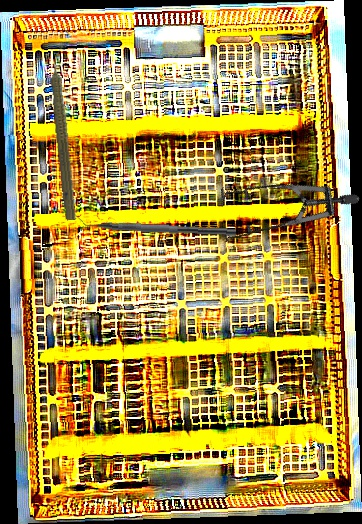Chopper: (73, 212, 237, 236)
Handpiece: (44, 44, 83, 222)
Speculum: (201, 140, 361, 287)
